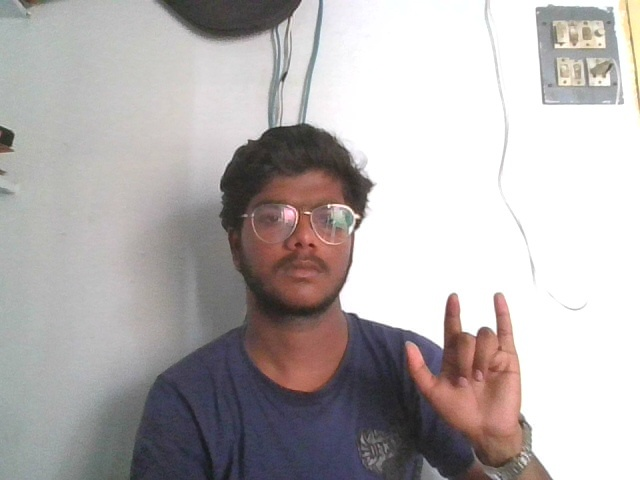IloveYou: (402, 281, 528, 441)
